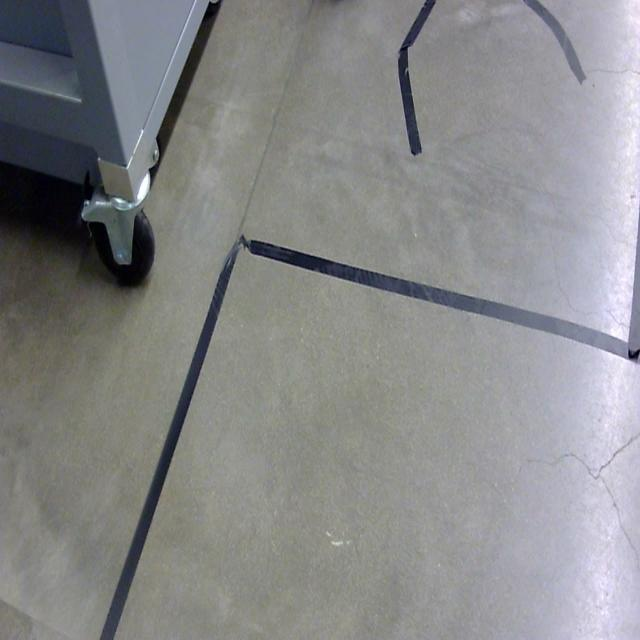tape: (98, 245, 239, 640), (240, 240, 628, 358), (400, 0, 440, 157), (521, 0, 592, 85), (627, 222, 640, 363)
